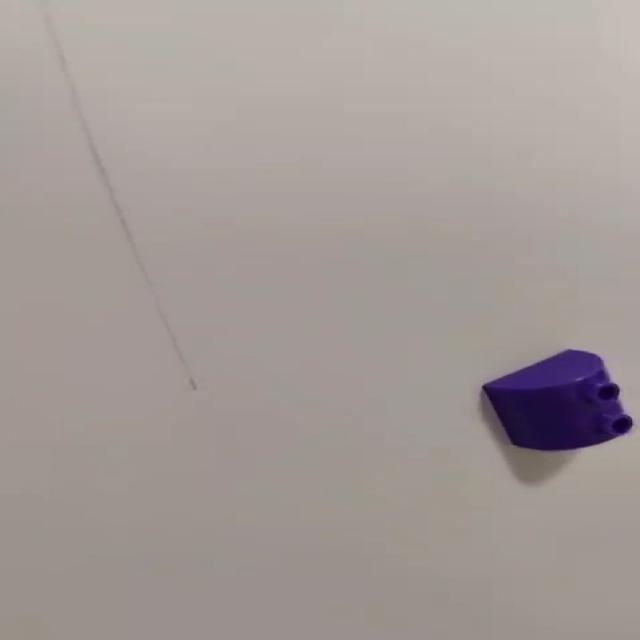H2x2x1: (484, 350, 638, 454)
